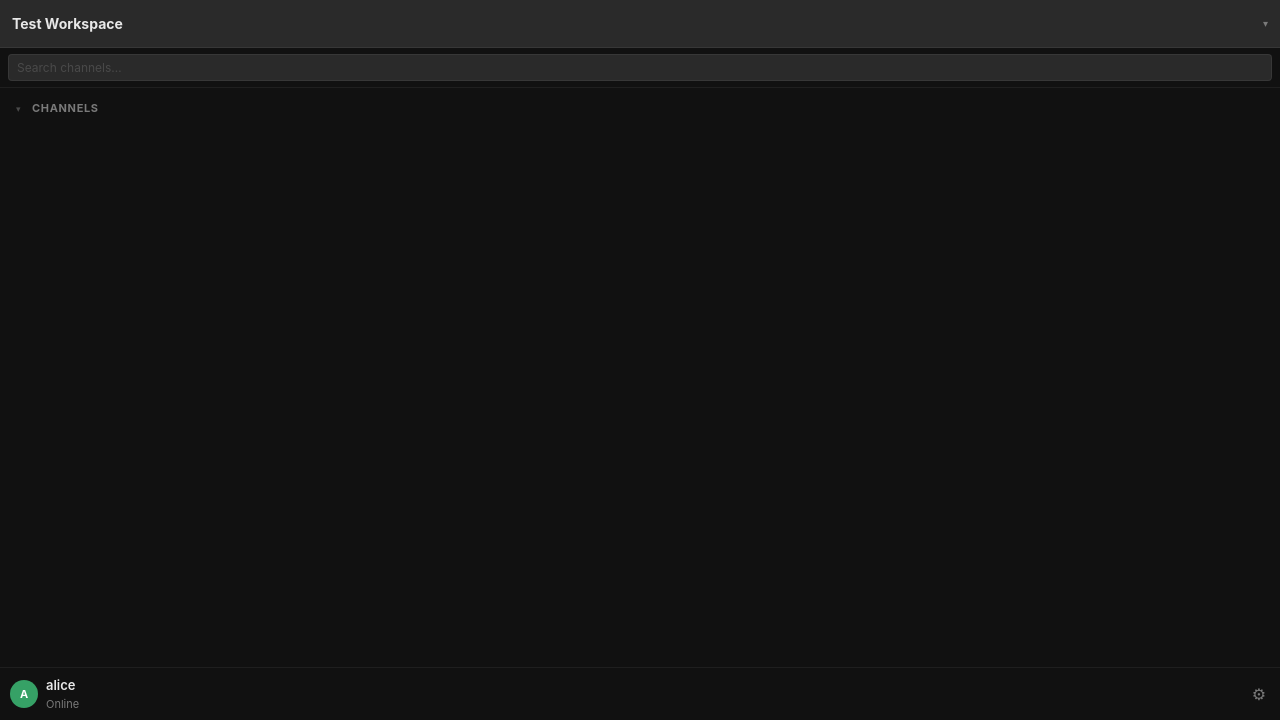
Test case: ChannelSidebar — workspace header › admin can open the workspace dropdown menu by clicking header
Click the button with class "sidebar__workspace-header".
click(67, 24)  # box [0,0,1279,48]
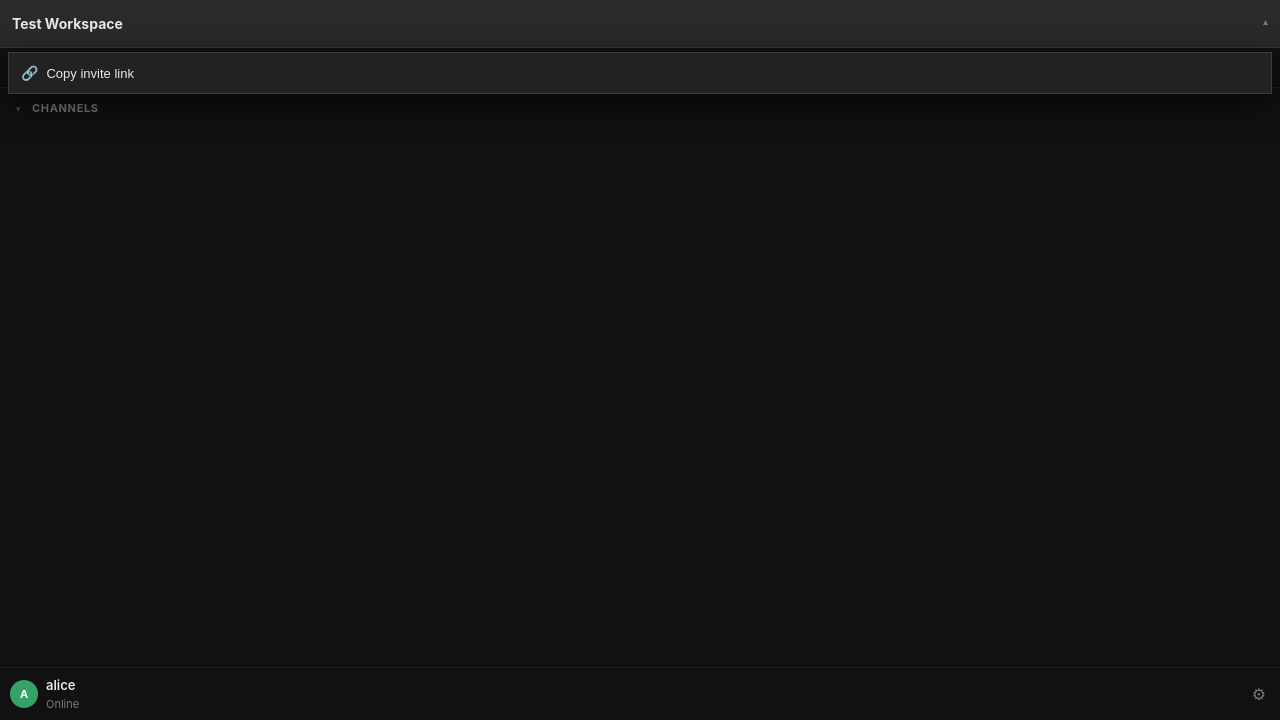
Now the menu with class "sidebar__ws-menu" is shown, box [8,52,1272,94]
